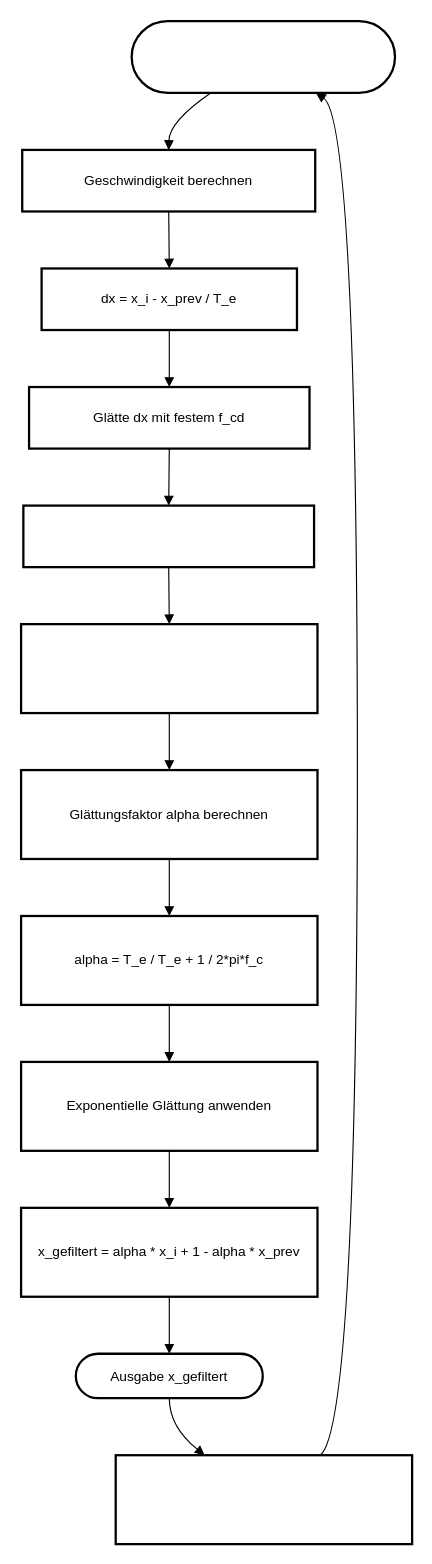
Some shapes in this 432 by 1564 pixel diagram are drawn without their labels. The centre of each missing label's shape, as x and y in pixels:
Dynamische Grenzfrequenz: the point at 168,536
Eingabe: Neue Messung x_i, Zeit T_e: the point at 263,56
f_c = f_min + beta * abs_geglättete_dx: the point at 168,668
x_prev = x_gefiltert für nächsten Frame speichern: the point at 263,1499
